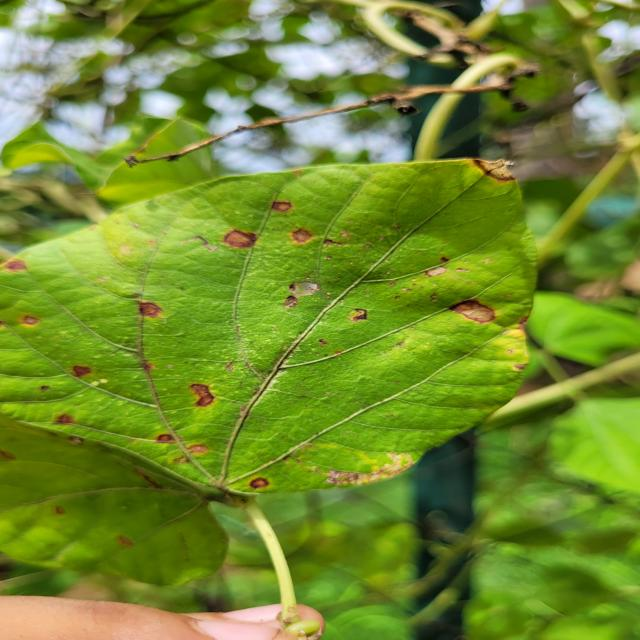Dolicos bean_cercospora leaf spot: (0, 159, 538, 494)
